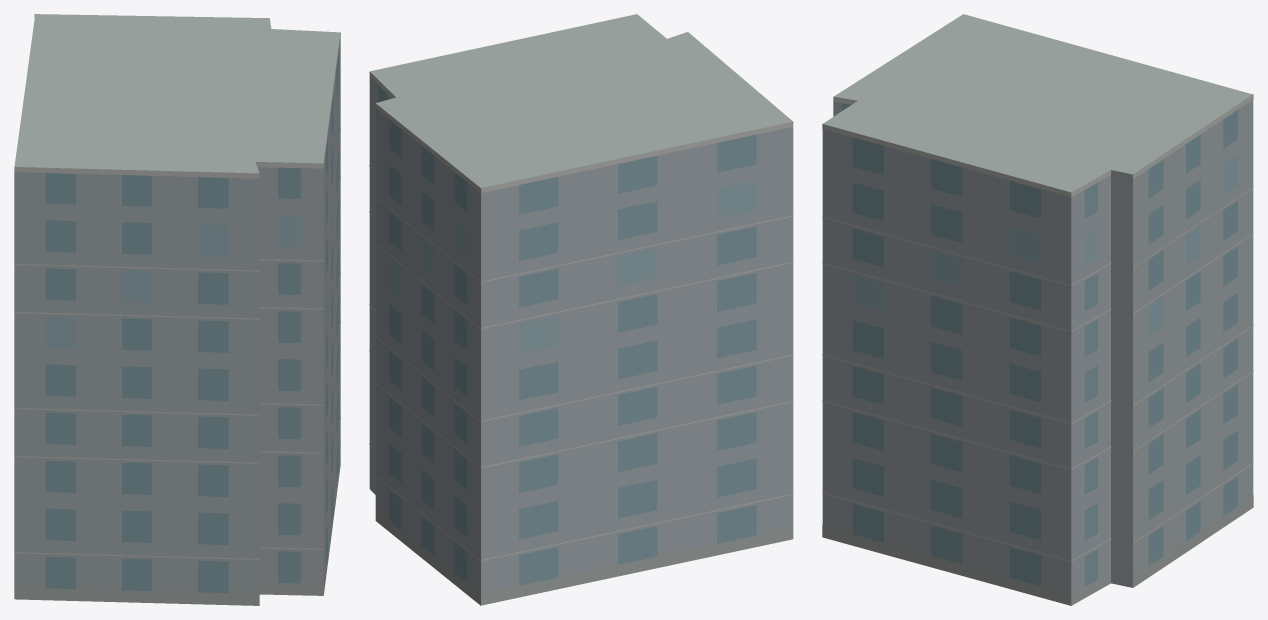
The model's file is survey-upis-32732717.glb.
3 views of the same model, side by side, from view 1: azimuth 30°, elevation 25°; view 2: azimuth 150°, elevation 25°; view 3: azimuth 270°, elevation 25° (orthographic). The views are drawn at different scales.
Parts seen in each view (by area): view 1: survey-upis-32732717.tmp; view 2: survey-upis-32732717.tmp; view 3: survey-upis-32732717.tmp.
Part boxes in pixels (<box>): survey-upis-32732717.tmp: <box>14,14,340,605</box>; survey-upis-32732717.tmp: <box>369,14,793,605</box>; survey-upis-32732717.tmp: <box>822,14,1253,605</box>.
Bounding box in the file's own units: 18.53 × 20 × 18.91.
